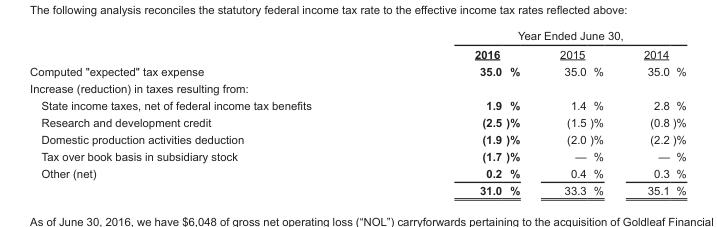table: (29, 29, 685, 196)
table column: (29, 29, 392, 196), (392, 29, 539, 196), (539, 29, 622, 196), (622, 29, 685, 196)
table column header: (29, 29, 685, 62)
table projected row header: (29, 79, 685, 96)
table row: (29, 44, 685, 62), (29, 62, 685, 79), (29, 79, 685, 96), (29, 96, 685, 113), (29, 113, 685, 130), (29, 130, 685, 147), (29, 147, 685, 164), (29, 164, 685, 181), (29, 29, 685, 44), (29, 181, 685, 196)
table spanning cell: (392, 29, 685, 44)
